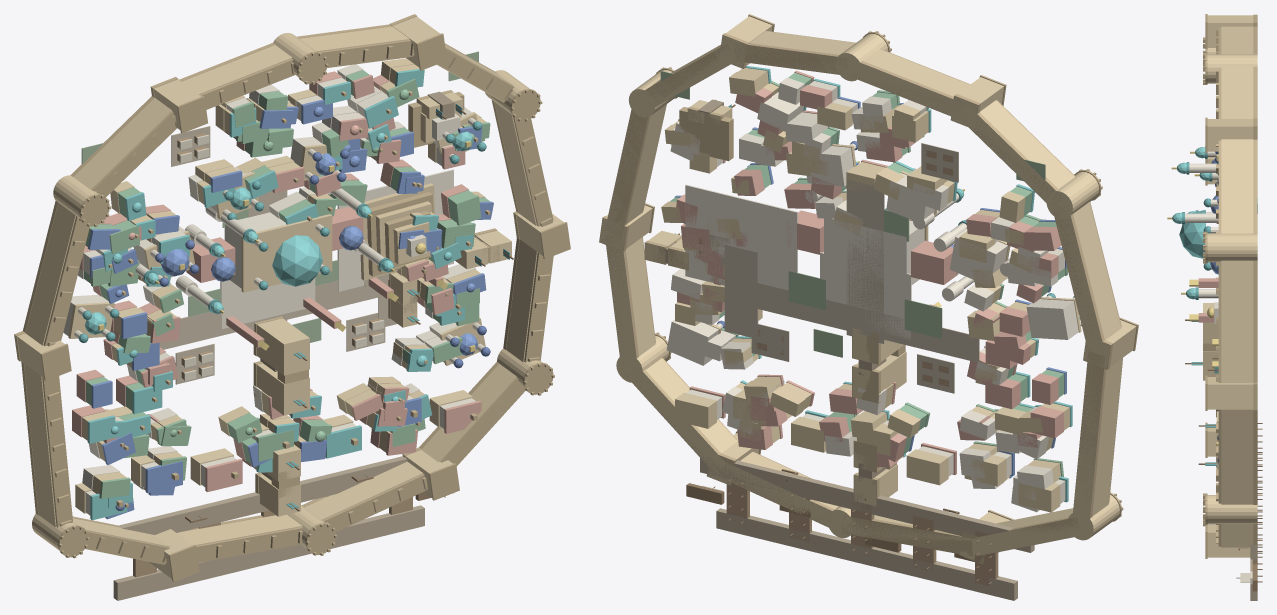
The model's file is Lake_Jewel_City_v2_Pyramid.glb.
The picture shows the model from 3 angles, left to right: view 1: azimuth 30°, elevation 25°; view 2: azimuth 150°, elevation 25°; view 3: azimuth 270°, elevation 25°; orthographic projection. The views are drawn at different scales.
Parts seen in each view (by area): view 1: world; view 2: world; view 3: world.
Boxes of the visible parts, bbox=[...] form: world: bbox=[14, 14, 570, 600]; world: bbox=[599, 14, 1138, 600]; world: bbox=[1167, 14, 1262, 600].
Size of the model in its own units: 248 by 235 by 41.95.
